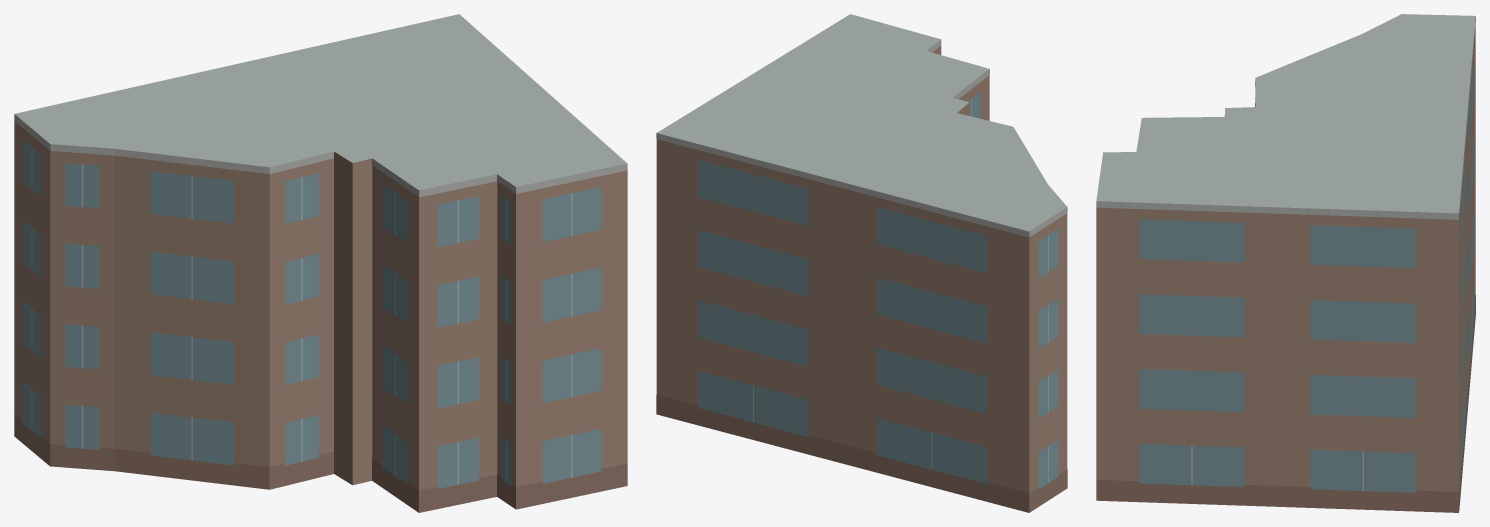
Rendered from survey-upis-32491147.glb.
The picture shows the model from 3 angles, left to right: view 1: azimuth 30°, elevation 25°; view 2: azimuth 150°, elevation 25°; view 3: azimuth 270°, elevation 25°; orthographic projection. The views are drawn at different scales.
Visible parts, largest first — view 1: survey-upis-32491147.tmp; view 2: survey-upis-32491147.tmp; view 3: survey-upis-32491147.tmp.
Part boxes in pixels (bbox=[...]): survey-upis-32491147.tmp: bbox=[14, 14, 627, 512]; survey-upis-32491147.tmp: bbox=[656, 14, 1067, 512]; survey-upis-32491147.tmp: bbox=[1096, 14, 1475, 512].
Bounding box in the file's own units: 16.44 × 11.5 × 13.22.
